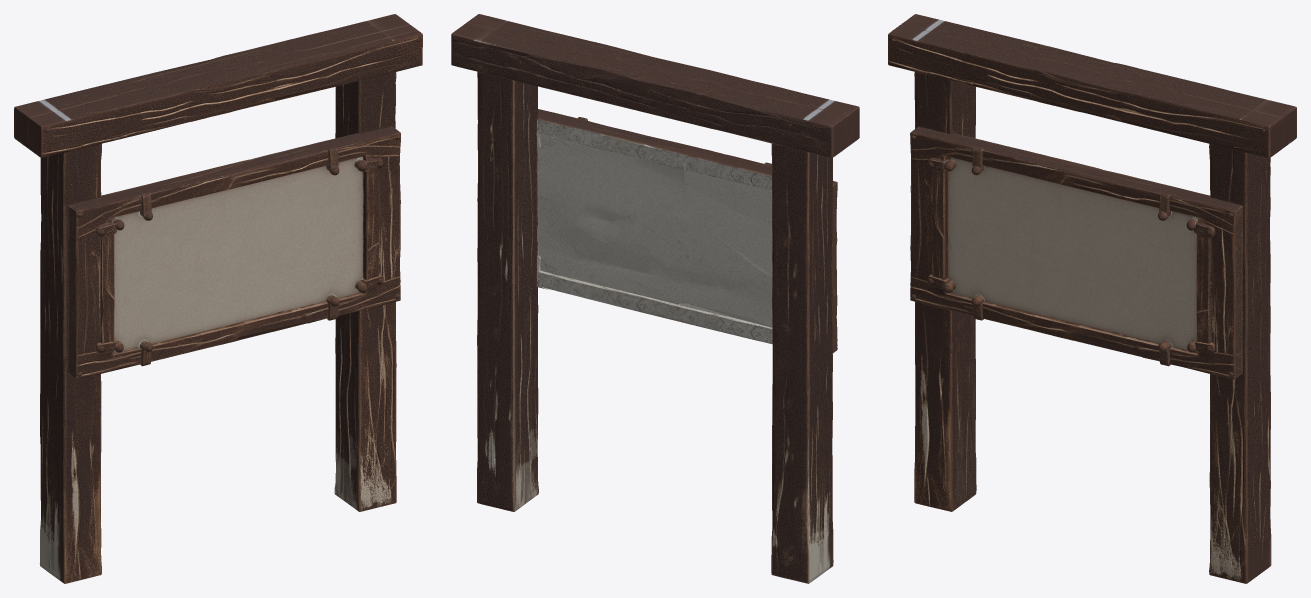
The model's file is sign_board_posts.glb.
3 renders of one model, left to right at view 1: azimuth 30°, elevation 25°; view 2: azimuth 150°, elevation 25°; view 3: azimuth 330°, elevation 25°, orthographic.
Size of the model in its own units: 1.64 by 1.9 by 0.2928.
Materials: 1 (1 with a texture image).
